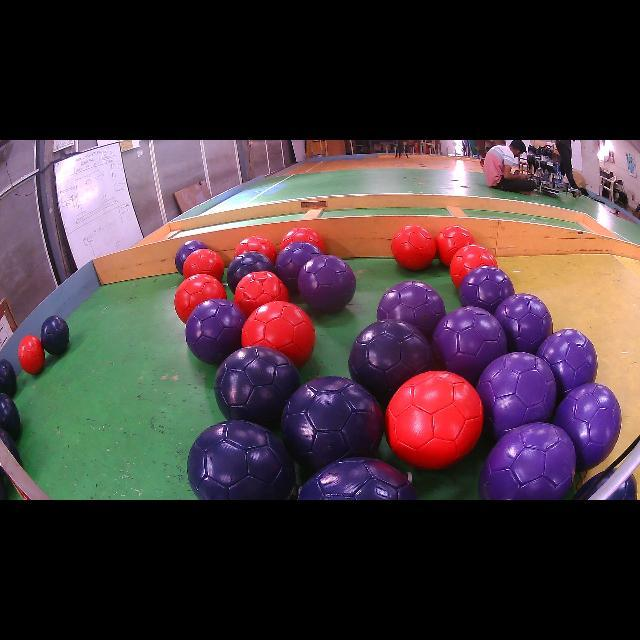B: (281, 376, 384, 471), (188, 420, 295, 500), (349, 319, 432, 403), (214, 346, 300, 425), (298, 458, 418, 500), (228, 251, 275, 292), (40, 315, 70, 355), (0, 392, 21, 440), (0, 360, 16, 398)
P: (479, 422, 576, 500), (476, 352, 556, 440), (431, 306, 508, 385), (554, 382, 621, 469), (538, 329, 598, 400), (376, 281, 446, 340), (185, 299, 246, 365), (494, 294, 552, 354), (298, 255, 356, 312), (459, 265, 515, 314), (275, 241, 322, 291), (175, 240, 208, 274)
R: (385, 371, 484, 470), (241, 301, 315, 368), (175, 274, 226, 323), (234, 271, 289, 316), (450, 244, 498, 289), (391, 225, 436, 270), (435, 225, 475, 266), (182, 249, 224, 281), (280, 226, 325, 254), (234, 236, 278, 262), (19, 335, 45, 374)
